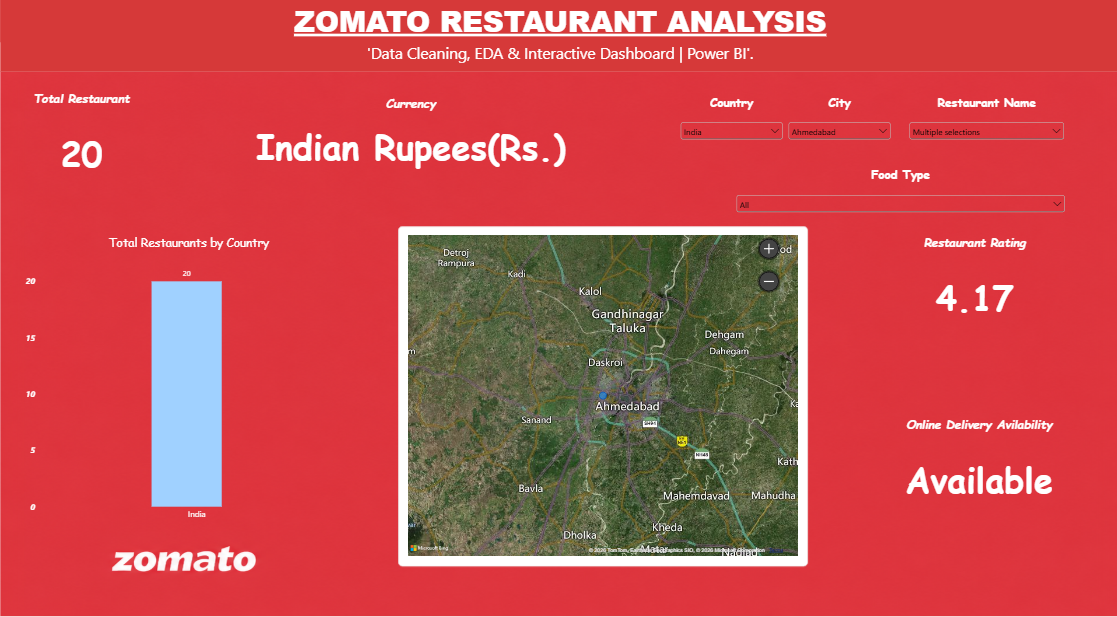

The page's visual inventory and layout, read from the dashboard file:
{"tool":"powerbi","page":{"name":"Zomato Restaurant Analysis","canvas":[1920,1080],"ordinal":0},"visuals":[{"type":"image","title":"ZOMATO RESTAURANT ANALYSIS","box":[1.9,0,1918.8,1057.9],"z":0},{"type":"card","title":"Total Restaurant","fields":{"Values":["zomato.Total Restaurants"]},"box":[0,140,282.5,197.5],"z":1000},{"type":"columnChart","fields":{"Category":["zomato.Country"],"Y":["zomato.Total Restaurants"]},"box":[28,387.3,592.8,525.7],"z":2000},{"type":"slicer","title":"Country","fields":{"Values":["zomato.Country"]},"box":[1162.5,160,185,147.5],"z":3000},{"type":"slicer","title":"Restaurant Name","fields":{"Values":["zomato.Restaurant Name"]},"box":[1555,160,275,147.5],"z":4000},{"type":"card","title":"Currency","fields":{"Values":["Min(zomato.Currency)"]},"box":[250,150,912.5,157.5],"z":5000},{"type":"slicer","title":"City","fields":{"Values":["zomato.City"]},"box":[1347.5,160,185,147.5],"z":6000},{"type":"card","title":"Restaurant Rating","fields":{"Values":["Avg(zomato.Aggregate rating)"]},"box":[1439.1,387.6,465.6,198.3],"z":7000},{"type":"slicer","title":"Food Type","fields":{"Values":["zomato.Food Type"]},"box":[1257.6,284.7,572.5,165],"z":8000},{"type":"card","title":"Online Delivery Avilability","fields":{"Values":["Min(zomato.Online delivery)"]},"box":[1439.1,699.5,481.2,196],"z":9000},{"type":"map","fields":{"Category":["zomato.City"],"X":["Avg(zomato.Longitude)"],"Y":["Avg(zomato.Latitude)"]},"box":[683.7,387.3,702.3,583.3],"z":10000}]}

Visuals, with their boxes in screenshot pixels (x1, y1, x2, y2), scaled from the page's 1920x1080 canvas onto the 1117x617 screenshot:
"ZOMATO RESTAURANT ANALYSIS" image: detection(1, 0, 1116, 604)
"Total Restaurant" card: detection(0, 80, 164, 193)
columnChart - zomato.Country x zomato.Total Restaurants: detection(16, 221, 361, 522)
"Country" slicer: detection(676, 91, 784, 176)
"Restaurant Name" slicer: detection(905, 91, 1065, 176)
"Currency" card: detection(145, 86, 676, 176)
"City" slicer: detection(784, 91, 892, 176)
"Restaurant Rating" card: detection(837, 221, 1108, 335)
"Food Type" slicer: detection(732, 163, 1065, 257)
"Online Delivery Avilability" card: detection(837, 400, 1116, 512)
map - zomato.City x Avg(zomato.Longitude): detection(398, 221, 806, 555)
